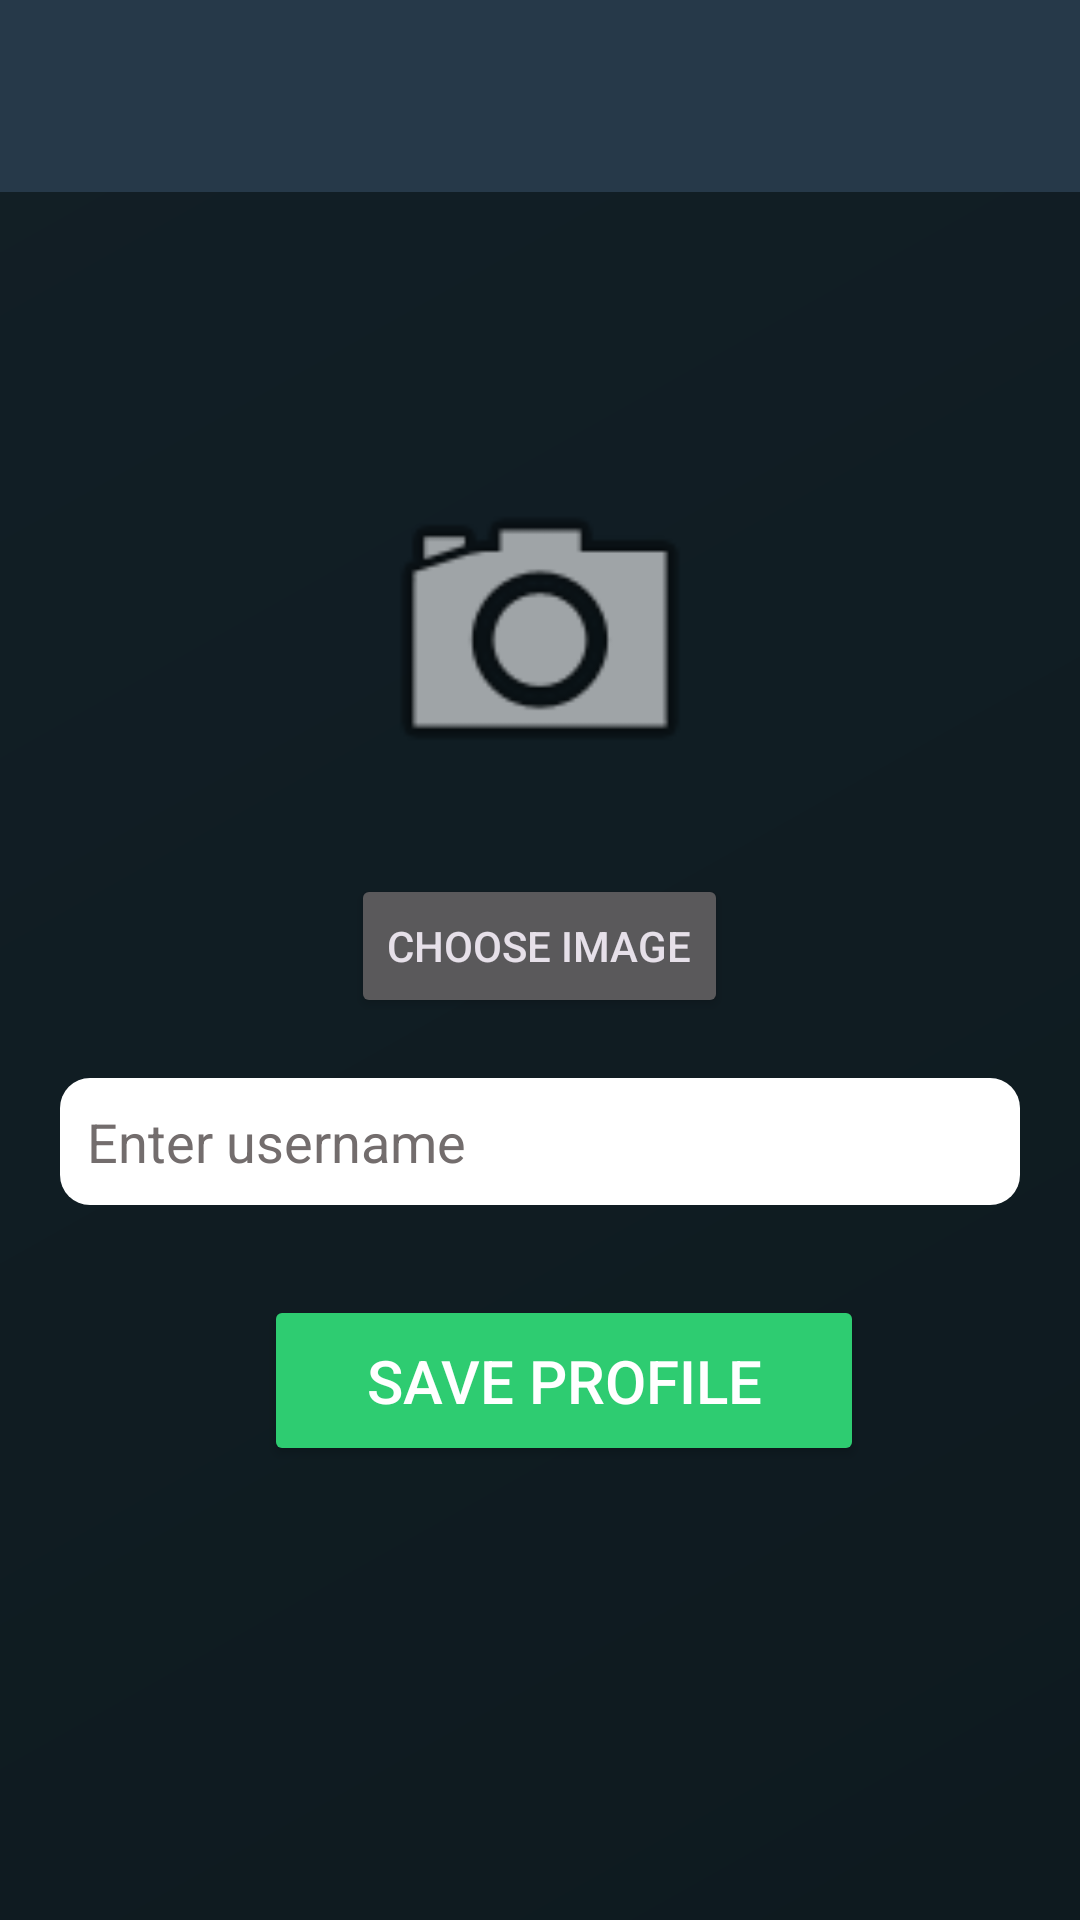

Named icons in this screenshot (1080x1920) and their centers, point (x, y):
camera: point (540, 628)
